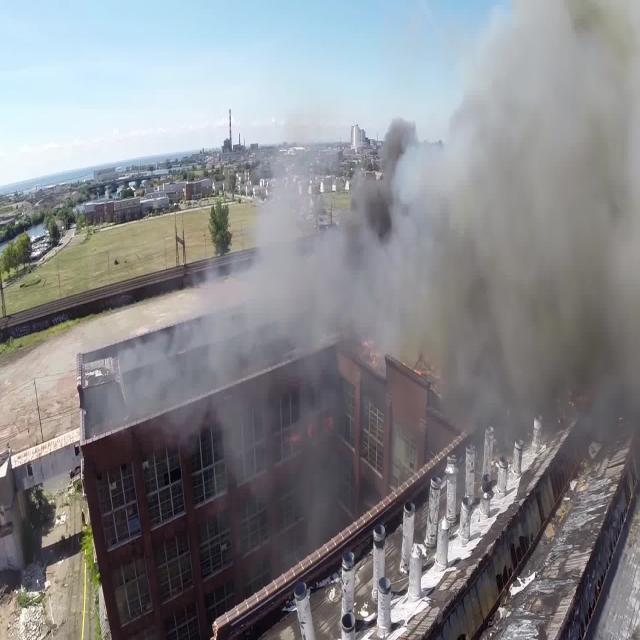Smoke: (149, 4, 640, 458)
